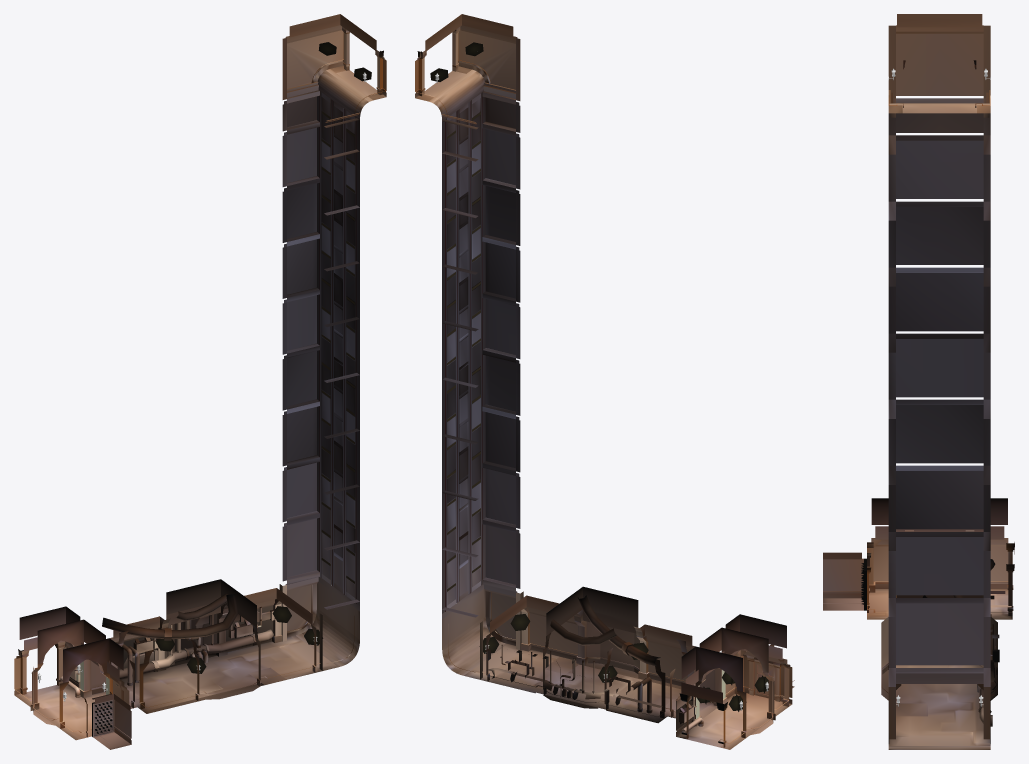
Rendered from 21Shaft.gltf.
3 views of the same model, side by side, from view 1: azimuth 30°, elevation 25°; view 2: azimuth 150°, elevation 25°; view 3: azimuth 270°, elevation 25° (orthographic). The views are drawn at different scales.
Parts seen in each view (by area): view 1: stg030_o25_Mesh_18, stg030_o25_Mesh_61, stg030_o25_Mesh_62, stg030_o25_Mesh_66, stg030_o25_Mesh_13, stg030_o25_Mesh_85, stg030_o25_Mesh_50, stg030_g25_Mesh_0, stg030_o25_Mesh_58, stg030_o25_Mesh_39, stg030_o25_Mesh_34, stg030_o25_Mesh_86 (+10 smaller); view 2: stg030_o25_Mesh_61, stg030_o25_Mesh_18, stg030_o25_Mesh_62, stg030_o25_Mesh_66, stg030_o25_Mesh_13, stg030_o25_Mesh_58, stg030_g25_Mesh_0, stg030_o25_Mesh_50, stg030_o25_Mesh_39, stg030_o25_Mesh_85, stg030_o25_Mesh_34, stg030_o25_Mesh_53 (+8 smaller); view 3: stg030_o25_Mesh_24, stg030_o25_Mesh_66, stg030_o25_Mesh_58, stg030_o25_Mesh_85, stg030_o25_Mesh_18, stg030_o25_Mesh_34, stg030_o25_Mesh_78, stg030_o25_Mesh_39, stg030_o25_Mesh_53, stg030_o25_Mesh_50, stg030_o25_Mesh_80, stg030_o25_Mesh_61 (+4 smaller).
Boxes of the visible parts, x1,y1,x2,y2 form: stg030_o25_Mesh_18: (16,25,386,712); stg030_o25_Mesh_61: (19,97,312,670); stg030_o25_Mesh_62: (166,75,362,637); stg030_o25_Mesh_66: (279,38,372,670); stg030_o25_Mesh_13: (70,91,357,697); stg030_o25_Mesh_85: (31,605,295,718); stg030_o25_Mesh_50: (27,604,332,737); stg030_g25_Mesh_0: (156,42,371,673); stg030_o25_Mesh_58: (14,30,386,738); stg030_o25_Mesh_39: (24,19,376,681); stg030_o25_Mesh_34: (14,33,386,744); stg030_o25_Mesh_86: (28,617,356,719); stg030_o25_Mesh_61: (490,98,786,678); stg030_o25_Mesh_18: (415,25,790,732); stg030_o25_Mesh_62: (439,75,638,645); stg030_o25_Mesh_66: (429,38,523,679); stg030_o25_Mesh_13: (444,92,703,726); stg030_o25_Mesh_58: (415,30,792,697); stg030_g25_Mesh_0: (430,42,768,711); stg030_o25_Mesh_50: (470,610,789,746); stg030_o25_Mesh_39: (425,19,782,703); stg030_o25_Mesh_85: (471,658,746,741); stg030_o25_Mesh_34: (415,33,792,736); stg030_o25_Mesh_53: (425,14,782,697); stg030_o25_Mesh_24: (896,33,999,695); stg030_o25_Mesh_66: (888,25,990,748); stg030_o25_Mesh_58: (823,546,1008,597); stg030_o25_Mesh_85: (887,594,1010,742); stg030_o25_Mesh_18: (823,25,1011,749); stg030_o25_Mesh_34: (823,108,1008,734); stg030_o25_Mesh_78: (823,105,1008,745); stg030_o25_Mesh_39: (875,20,1014,683); stg030_o25_Mesh_53: (875,14,1014,677); stg030_o25_Mesh_50: (867,548,1008,745); stg030_o25_Mesh_80: (867,105,1008,745); stg030_o25_Mesh_61: (871,498,1007,596).
Size of the model in its own units: 61.05 by 110 by 26.3.
